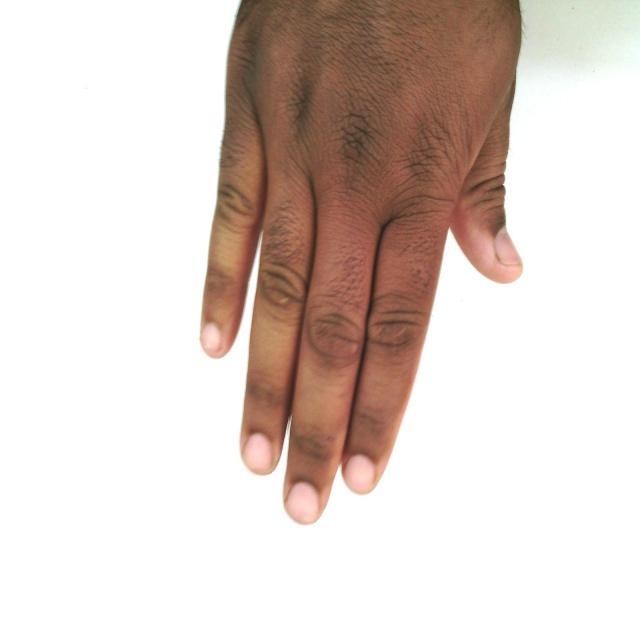Fingernail: (287, 483, 319, 523), (345, 456, 375, 493), (245, 435, 274, 472), (496, 230, 522, 267), (202, 324, 221, 351)
